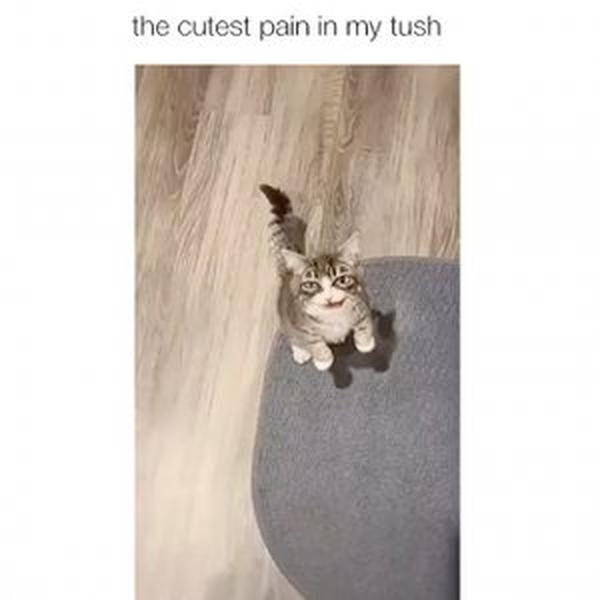michi: (247, 175, 387, 390)
